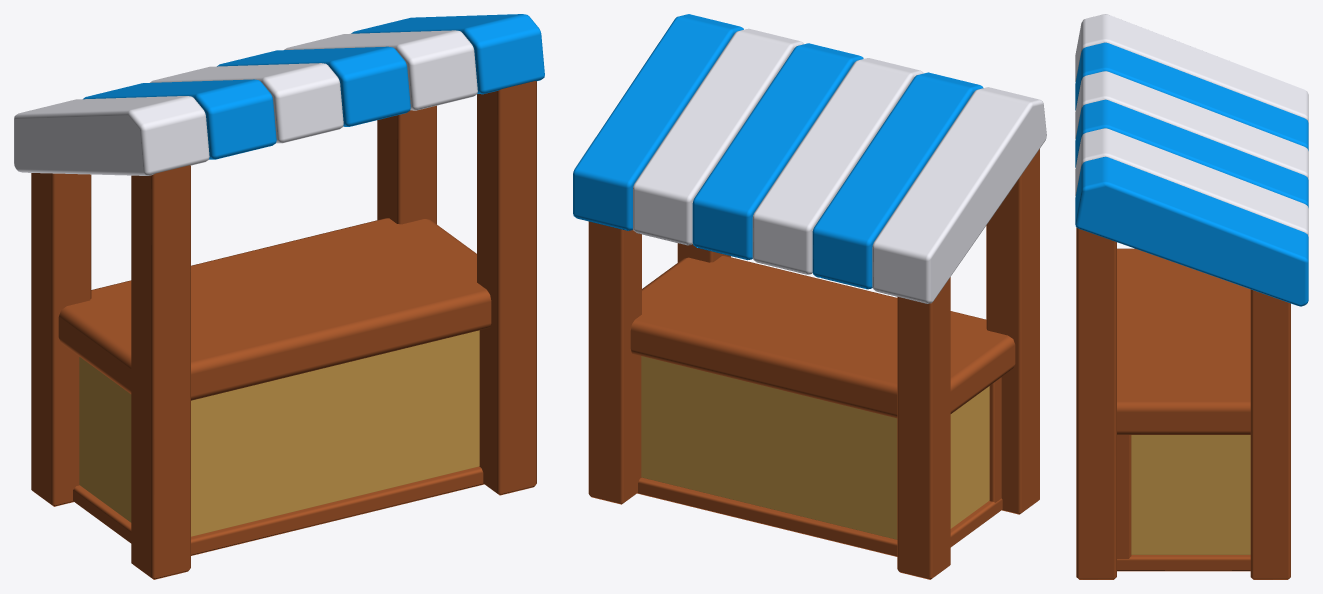
The model's file is FoodCart.glb.
The picture shows the model from 3 angles, left to right: view 1: azimuth 30°, elevation 25°; view 2: azimuth 150°, elevation 25°; view 3: azimuth 270°, elevation 25°; orthographic projection. The views are drawn at different scales.
Parts seen in each view (by area): view 1: M_FoodCart_Beam, M_FoodCart_Plank, M_FoodCart_Stripe, M_FoodCart_Awning; view 2: M_FoodCart_Beam, M_FoodCart_Stripe, M_FoodCart_Awning, M_FoodCart_Plank; view 3: M_FoodCart_Beam, M_FoodCart_Awning, M_FoodCart_Stripe, M_FoodCart_Plank.
Part boxes in pixels (<box>): M_FoodCart_Beam: <box>31,81,536,579</box>; M_FoodCart_Plank: <box>79,330,479,536</box>; M_FoodCart_Stripe: <box>14,30,477,175</box>; M_FoodCart_Awning: <box>83,14,544,159</box>; M_FoodCart_Beam: <box>588,149,1039,579</box>; M_FoodCart_Stripe: <box>633,28,1046,303</box>; M_FoodCart_Awning: <box>573,14,983,289</box>; M_FoodCart_Plank: <box>641,356,989,539</box>; M_FoodCart_Beam: <box>1076,227,1290,579</box>; M_FoodCart_Awning: <box>1075,42,1308,306</box>; M_FoodCart_Stripe: <box>1075,14,1308,236</box>; M_FoodCart_Plank: <box>1131,435,1250,554</box>.
Bounding box in the file's own units: 6.38 × 6.99 × 3.69.
